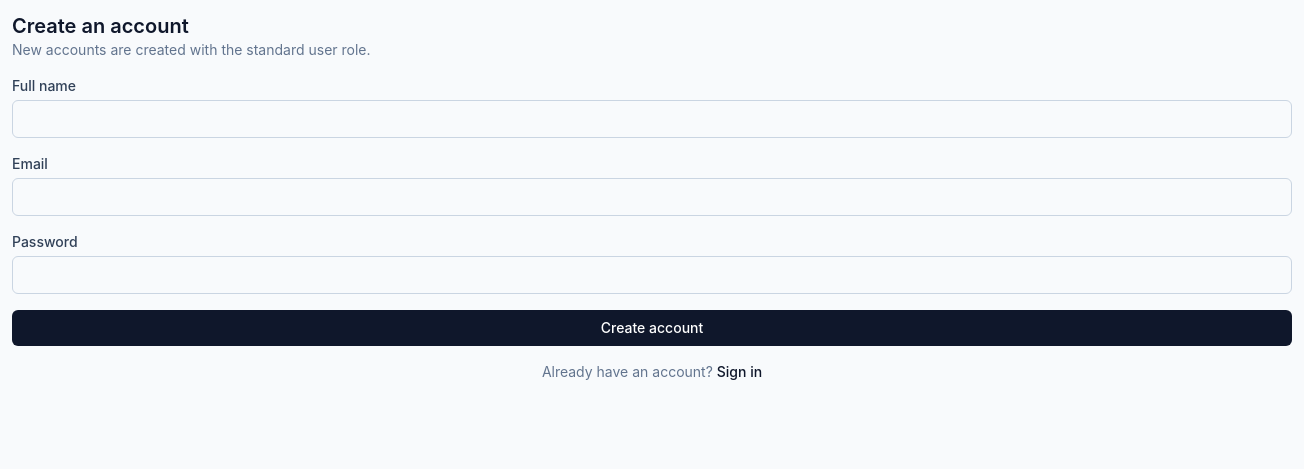
Test: RegisterForm › shows validation errors when submitting empty fields
This screenshot has width=1304, height=469.
Click the button "Create account" at (652, 328), box [12,310,1292,346]
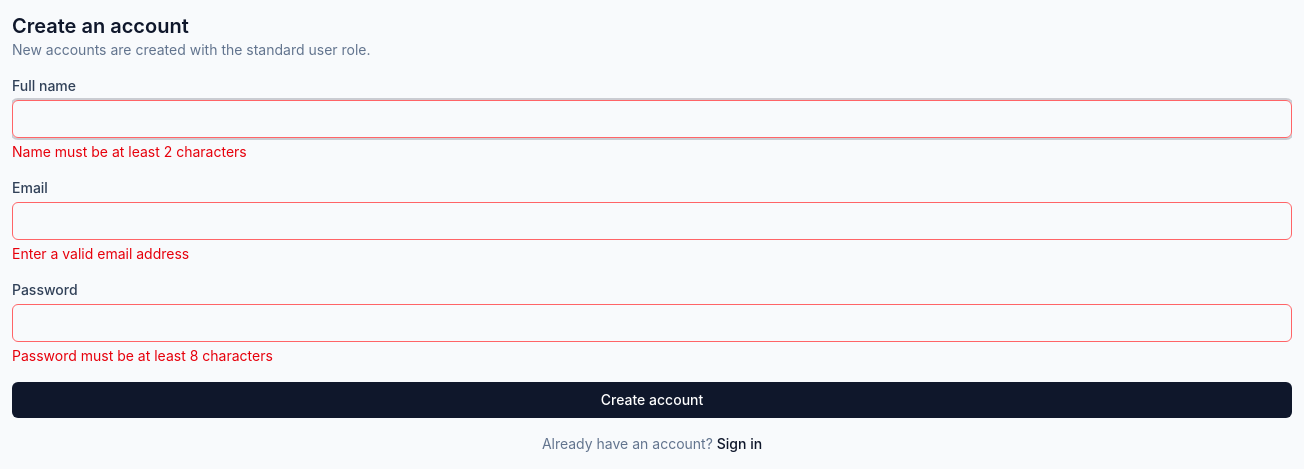
Result: the text "Name must be at least 2 characters" is shown at [12,143,247,160]
Result: the text "Enter a valid email address" is shown at [12,245,189,262]
Result: the text "Password must be at least 8 characters" is shown at [12,347,273,364]
